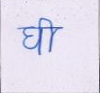i_matra: (40, 17, 59, 52)
